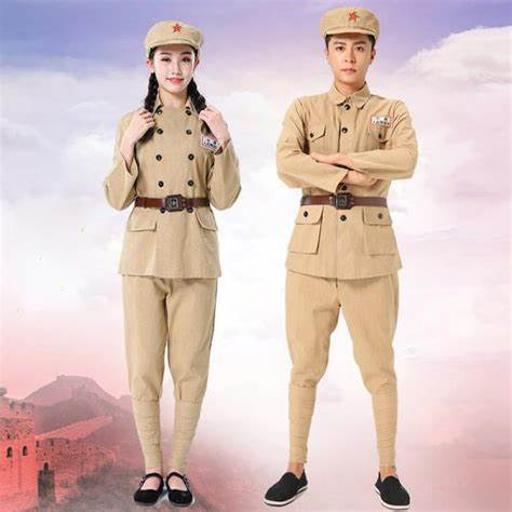north army: (99, 15, 279, 499), (249, 10, 427, 453)
